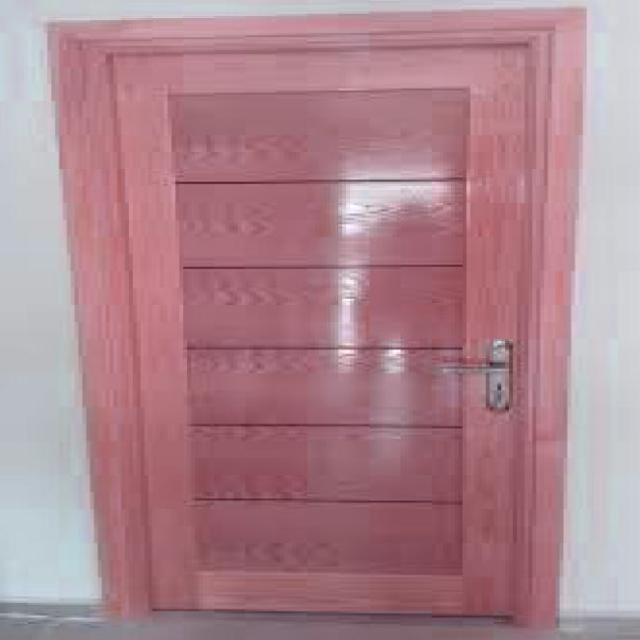door: (47, 9, 580, 626)
